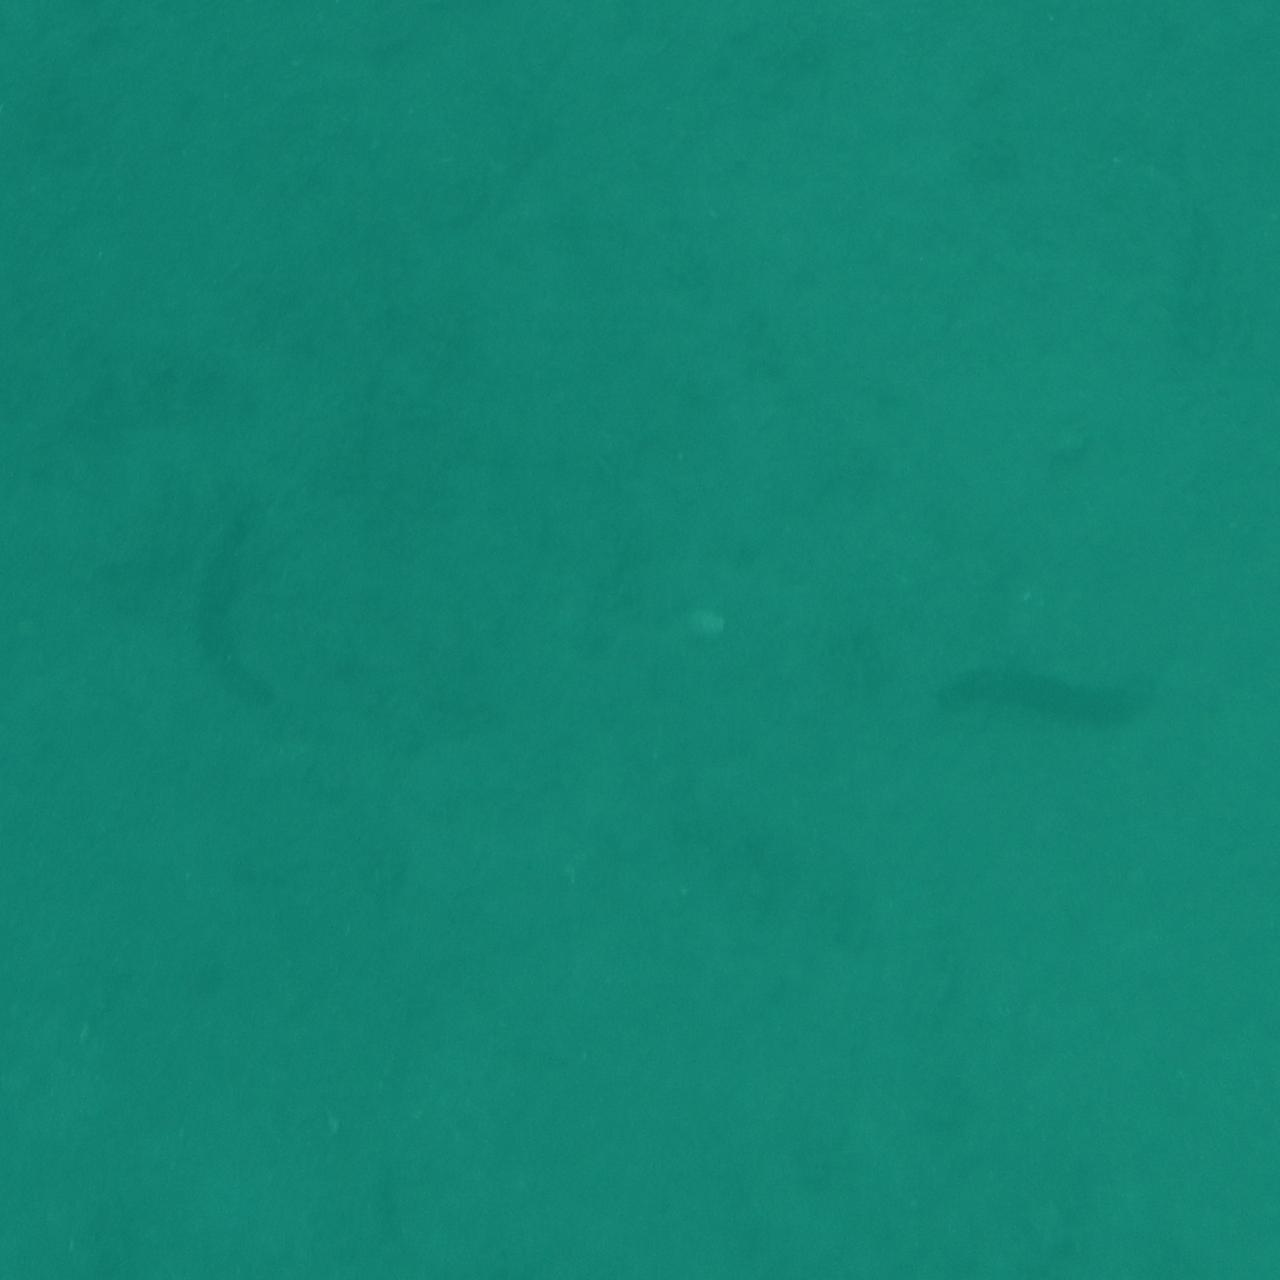Holothuria tubulosa: (910, 626, 1169, 750), (182, 508, 300, 745)
